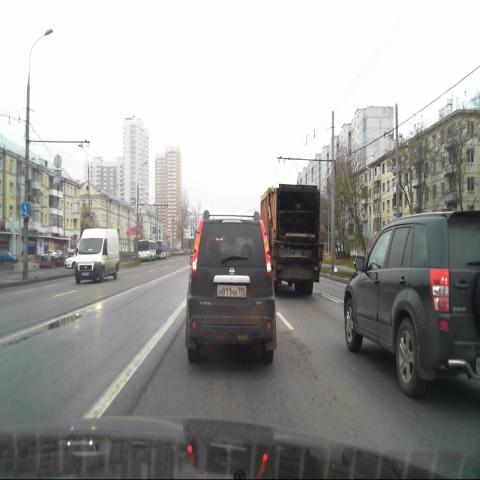6_6: (21, 202, 30, 217)
